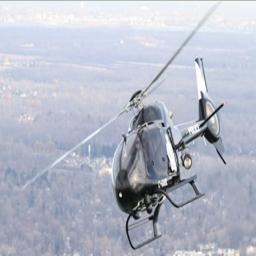helicopter: (30, 5, 242, 248)
